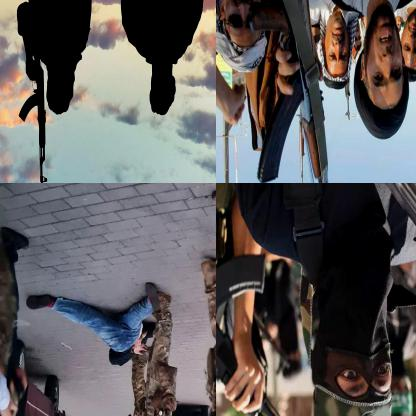rifle: (216, 214, 314, 415), (327, 183, 415, 383), (254, 0, 332, 182), (19, 45, 53, 182), (294, 101, 311, 182), (342, 76, 360, 124)
